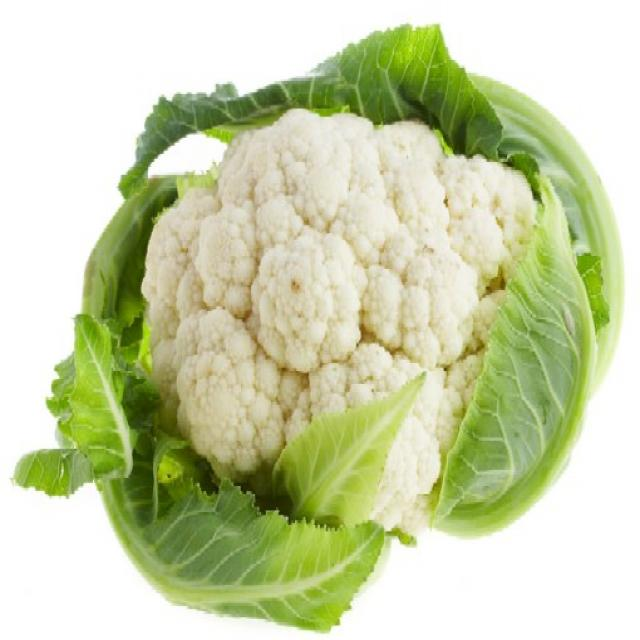Cauliflower head: (64, 19, 640, 640)
